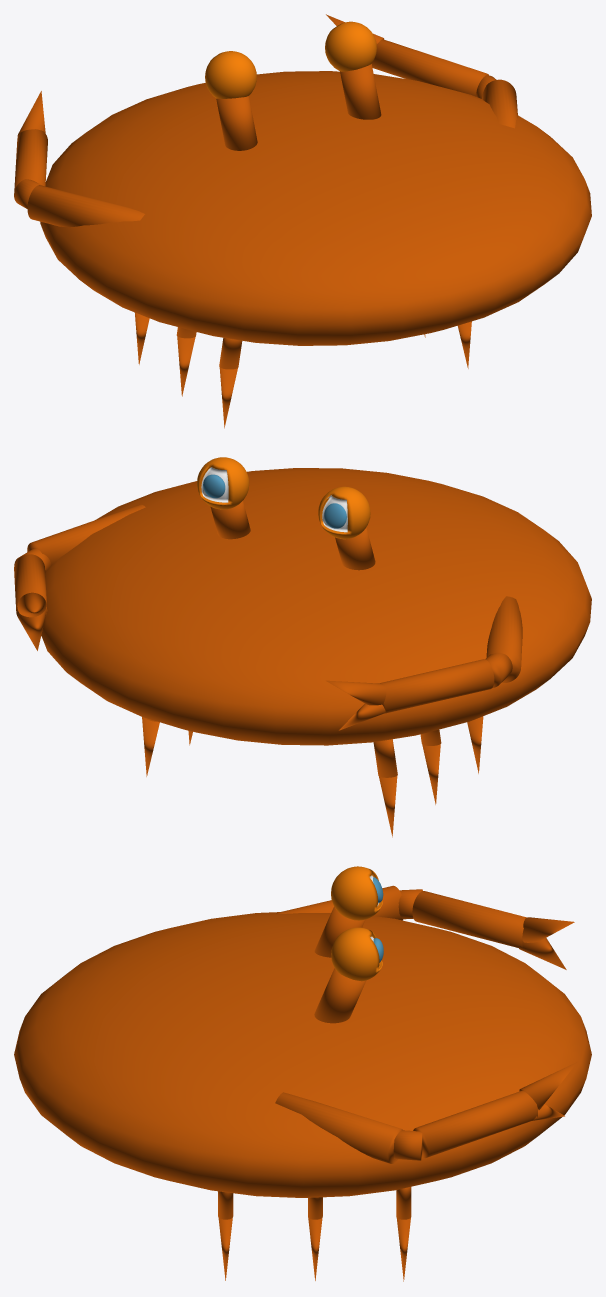
File: Enemigocangrejosmooth.fbx
3 renders of one model, top to bottom at view 1: azimuth 30°, elevation 25°; view 2: azimuth 150°, elevation 25°; view 3: azimuth 270°, elevation 25°, orthographic. The views are drawn at different scales.
Visible parts, largest first — view 1: Sphere.002; view 2: Sphere.002; view 3: Sphere.002.
Part boxes in pixels (x1=…): Sphere.002: x1=14, y1=14, x2=591, y2=428; Sphere.002: x1=14, y1=457, x2=591, y2=837; Sphere.002: x1=14, y1=866, x2=591, y2=1281.
Bounding box in the file's own units: 174 × 106 × 171.
29 materials, 29 textured.
